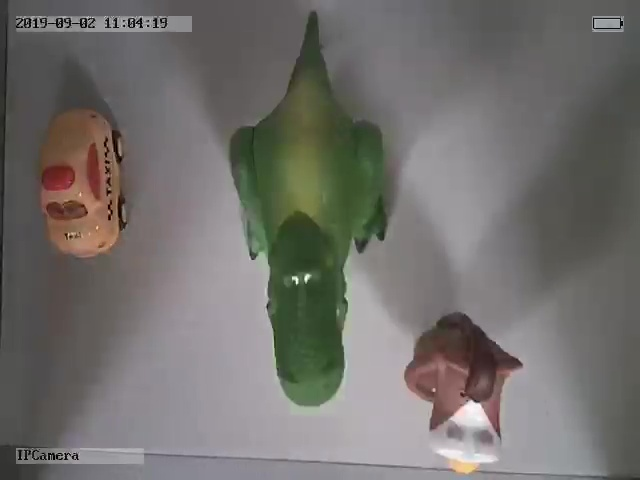car: (229, 21, 387, 409), (39, 106, 128, 256)
horse: (405, 313, 524, 473)
